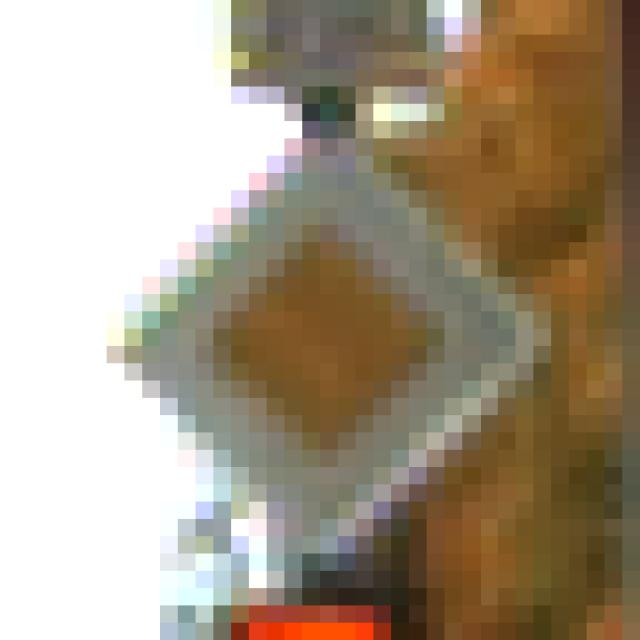Main Road: (108, 105, 552, 537)
